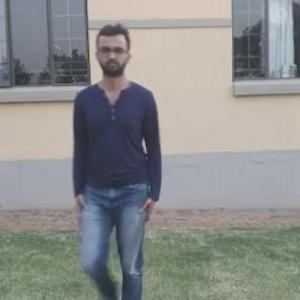follow: (67, 25, 159, 299)
